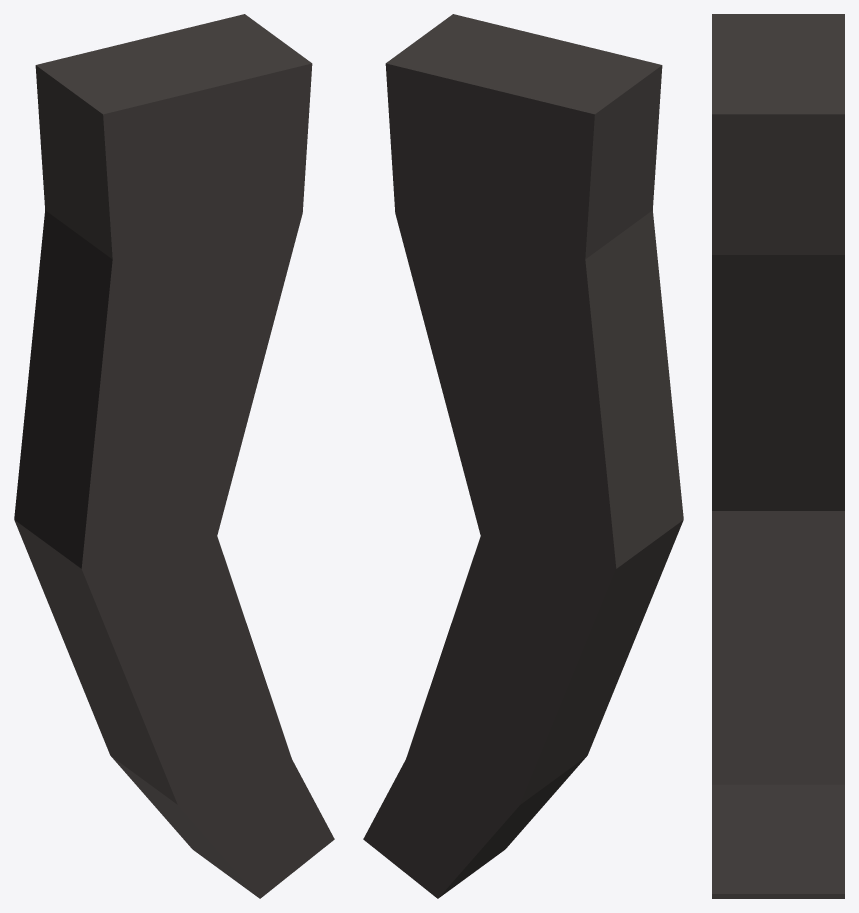
Rendered from SMG2_03_3.fbx.
3 views of the same model, side by side, from view 1: azimuth 30°, elevation 25°; view 2: azimuth 150°, elevation 25°; view 3: azimuth 270°, elevation 25° (orthographic).
Parts seen in each view (by area): view 1: SMG2_03_3; view 2: SMG2_03_3; view 3: SMG2_03_3.
Part boxes in pixels (left/top/right/bottom): SMG2_03_3: left=14, top=14, right=334, bottom=898; SMG2_03_3: left=363, top=14, right=683, bottom=898; SMG2_03_3: left=712, top=14, right=844, bottom=898.
Bounding box in the file's own units: 0.0106 × 0.0328 × 0.00487.
